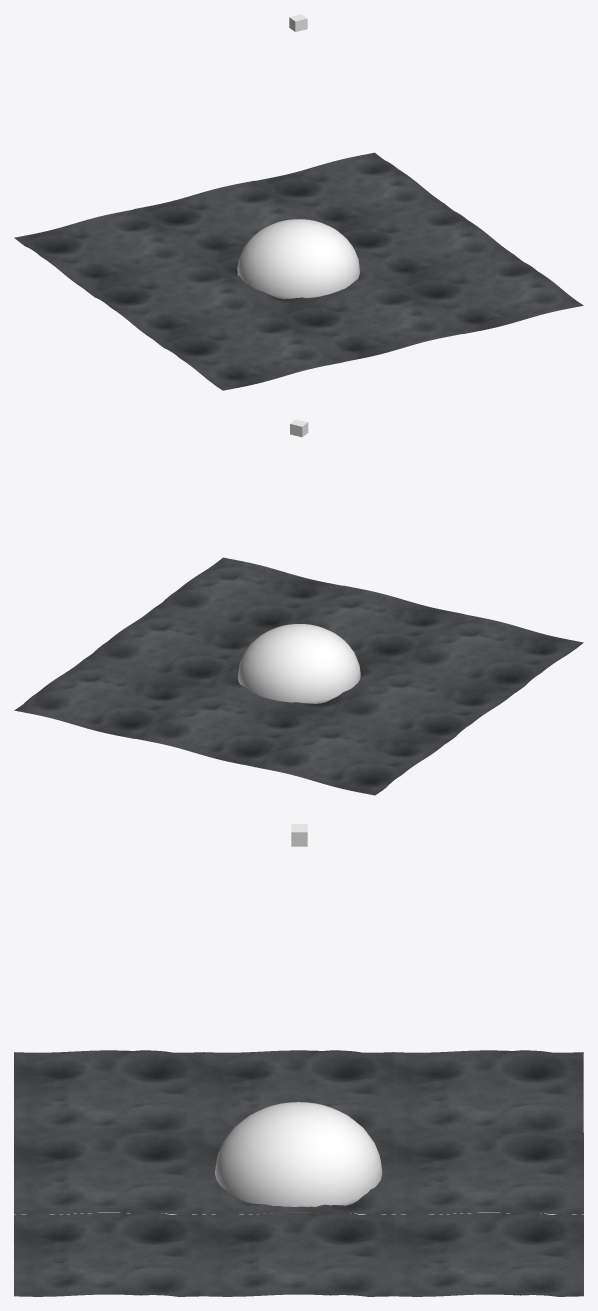
File: Moon_base.glb
3 renders of one model, top to bottom at view 1: azimuth 30°, elevation 25°; view 2: azimuth 150°, elevation 25°; view 3: azimuth 270°, elevation 25°, orthographic. The views are drawn at different scales.
Parts seen in each view (by area): view 1: ground, ground.001, shield_dome; view 2: ground, ground.001, shield_dome; view 3: ground, ground.001, shield_dome.
Part boxes in pixels (box(x1,y1,x2,y2)): ground: box(14, 152, 583, 390); ground.001: box(336, 203, 513, 282); shield_dome: box(237, 219, 359, 299); ground: box(14, 557, 583, 795); ground.001: box(84, 608, 261, 687); shield_dome: box(238, 624, 360, 703); ground: box(14, 1050, 583, 1296); ground.001: box(203, 1212, 393, 1296); shield_dome: box(215, 1102, 382, 1214).
Bounding box in the file's own units: 156 × 118 × 156.
Materials: 19 (1 with a texture image).
